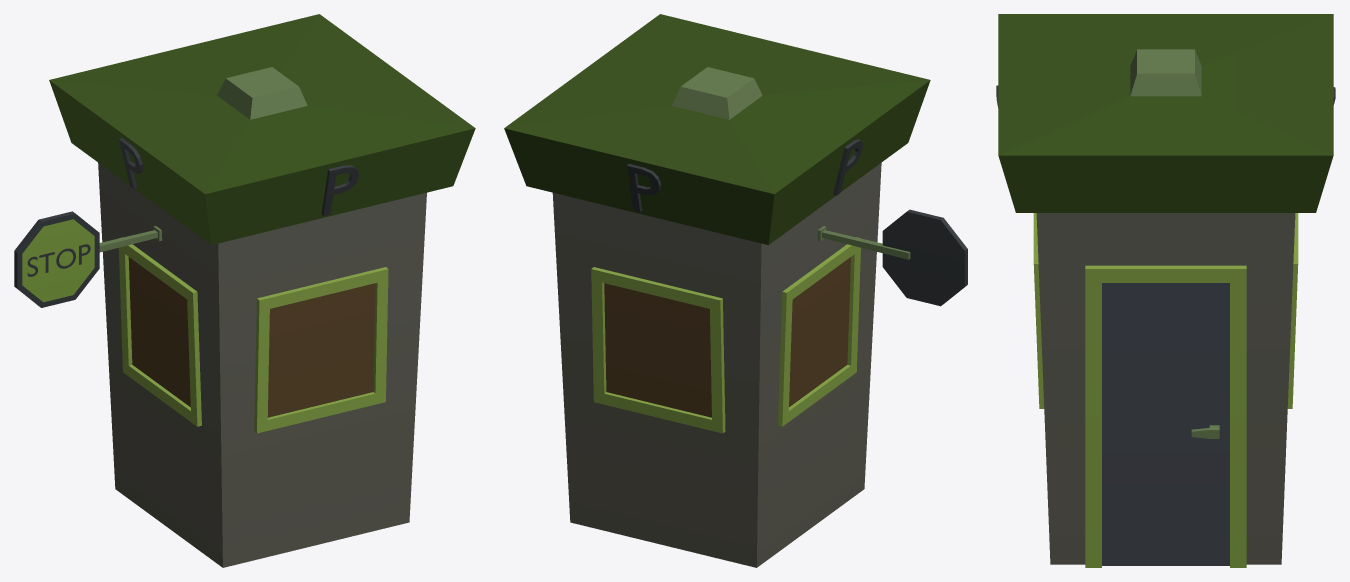
The model's file is ParkingBox_01.fbx.
3 renders of one model, left to right at view 1: azimuth 30°, elevation 25°; view 2: azimuth 150°, elevation 25°; view 3: azimuth 270°, elevation 25°, orthographic. The views are drawn at different scales.
Parts seen in each view (by area): view 1: ParkingBox_01; view 2: ParkingBox_01; view 3: ParkingBox_01.
Boxes of the visible parts, box(x1,y1,x2,y2) form: ParkingBox_01: box(14, 14, 475, 567); ParkingBox_01: box(504, 14, 967, 567); ParkingBox_01: box(996, 14, 1335, 567).
Size of the model in its own units: 2.97 by 3.14 by 2.12.
